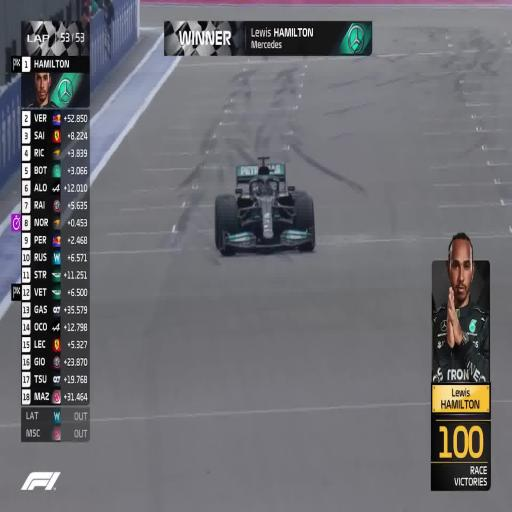f1_car: (214, 156, 315, 254)
